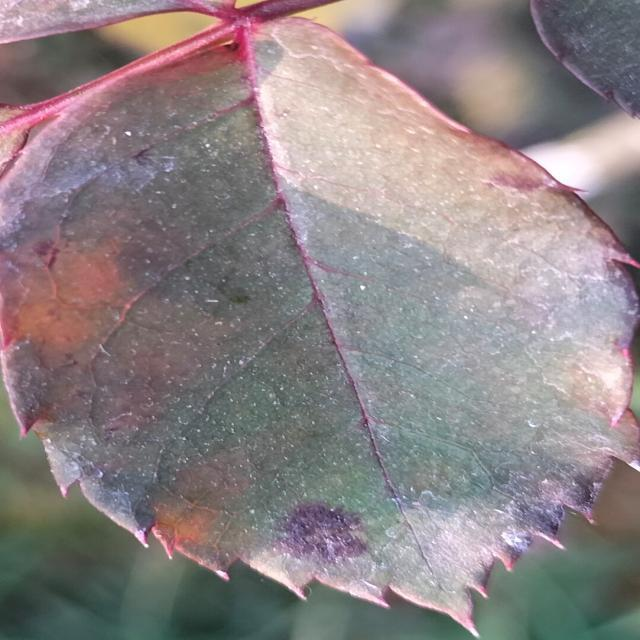Black_spot: (268, 497, 372, 571)
Rose: (0, 0, 639, 637)
